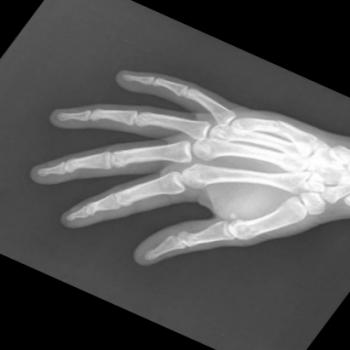Fracture: (272, 118, 288, 136)
